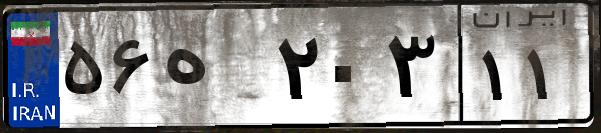0: (330, 28, 385, 110)
1: (475, 38, 525, 113), (525, 38, 570, 115)
2: (270, 28, 330, 110)
3: (385, 28, 445, 110)
5: (57, 26, 110, 100)
6: (110, 28, 158, 98)
ه: (158, 20, 270, 120)
